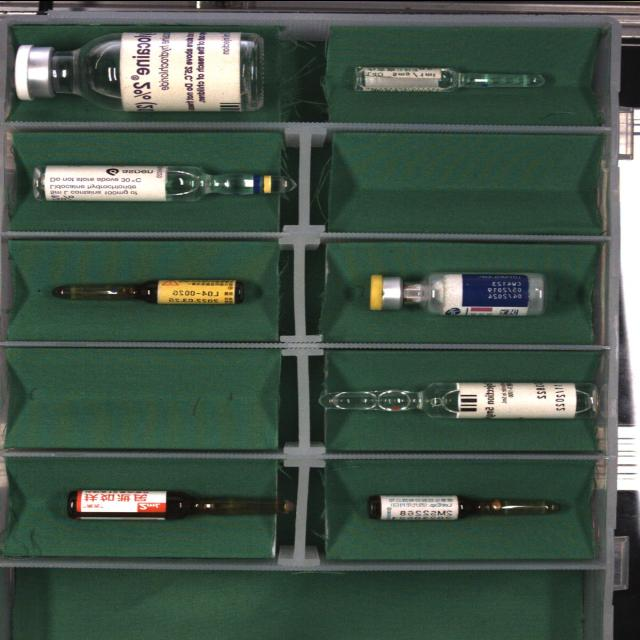Vials: (14, 30, 263, 110), (369, 271, 546, 315)
